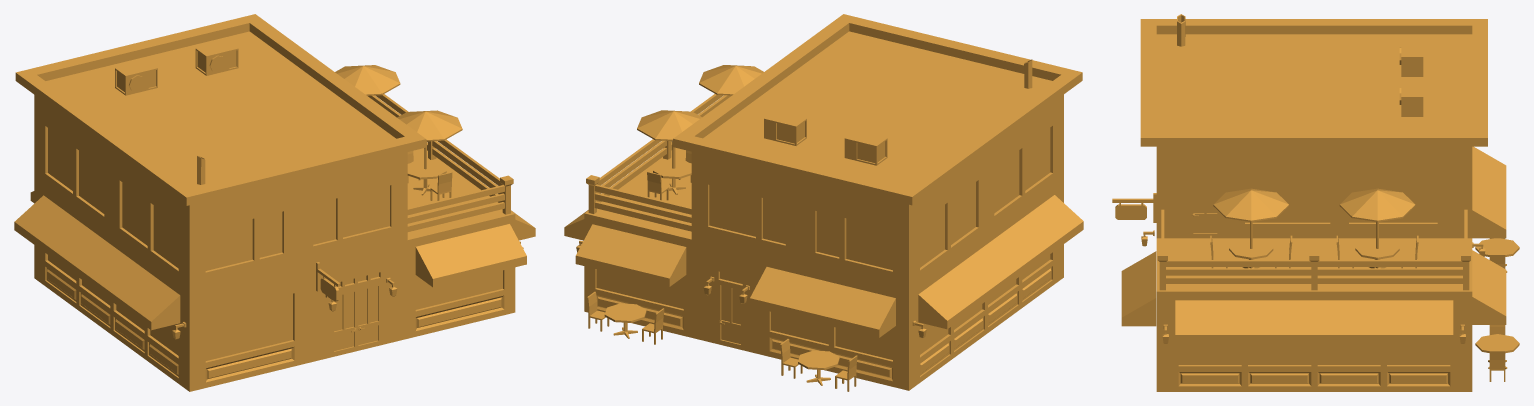
Rendered from building-restaurant.fbx.
3 views of the same model, side by side, from view 1: azimuth 30°, elevation 25°; view 2: azimuth 150°, elevation 25°; view 3: azimuth 270°, elevation 25° (orthographic).
Visible parts, largest first — view 1: building-restaurant; view 2: building-restaurant; view 3: building-restaurant.
Part boxes in pixels (x1=…): building-restaurant: x1=14, y1=14, x2=535, y2=391; building-restaurant: x1=564, y1=14, x2=1083, y2=391; building-restaurant: x1=1112, y1=14, x2=1519, y2=391.
Bounding box in the file's own units: 14.28 × 7.9 × 12.9.
